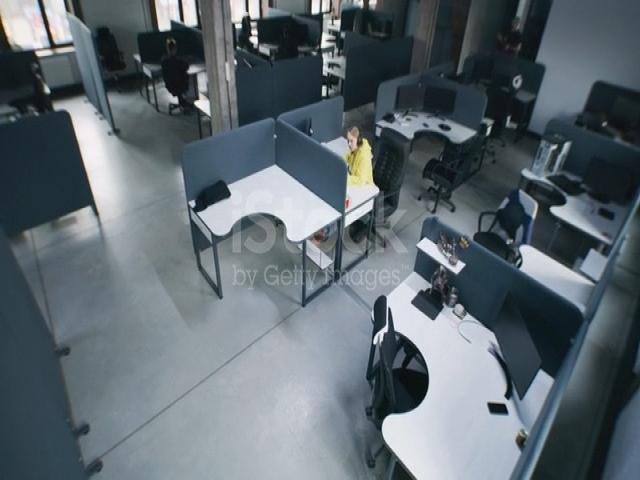empty chair: (352, 273, 419, 480), (474, 182, 541, 279), (424, 123, 476, 218), (88, 11, 136, 101), (477, 58, 514, 166), (22, 53, 56, 130), (314, 34, 342, 91)
occupiedchair: (338, 99, 408, 245), (148, 22, 195, 125), (574, 91, 640, 131)
